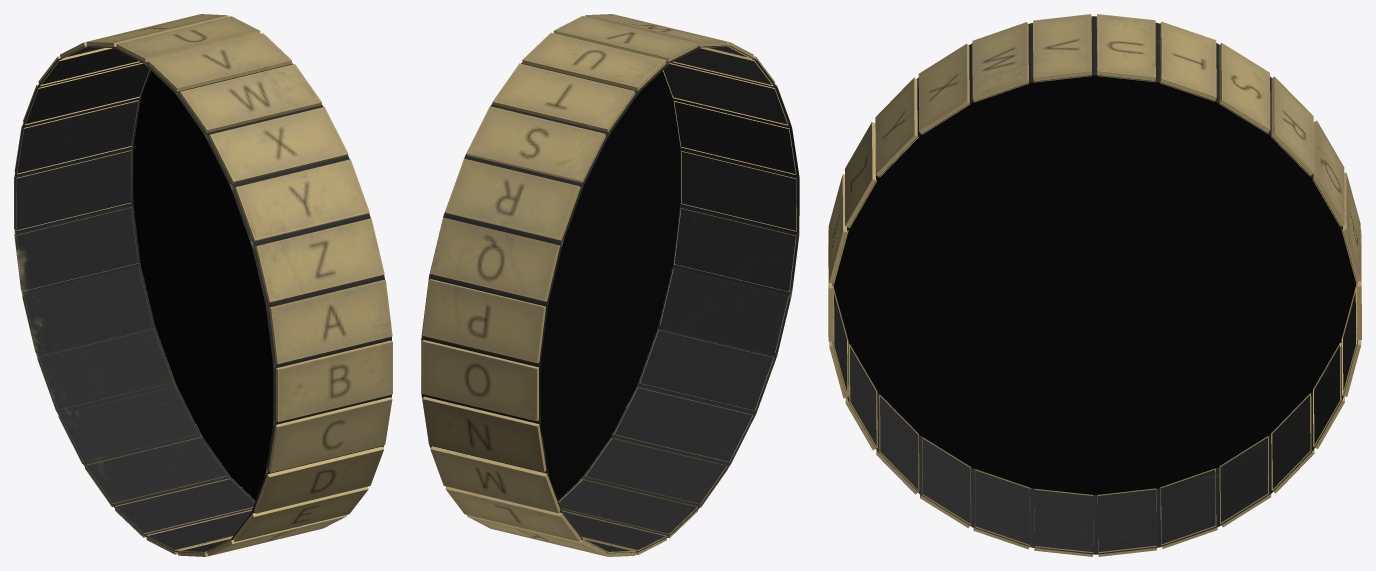
Rendered from Roda das letras.glb.
The picture shows the model from 3 angles, left to right: view 1: azimuth 30°, elevation 25°; view 2: azimuth 150°, elevation 25°; view 3: azimuth 270°, elevation 25°; orthographic projection.
Bounding box in the file's own units: 0.2313 × 0.891 × 0.8858.
2 materials, 1 textured.
